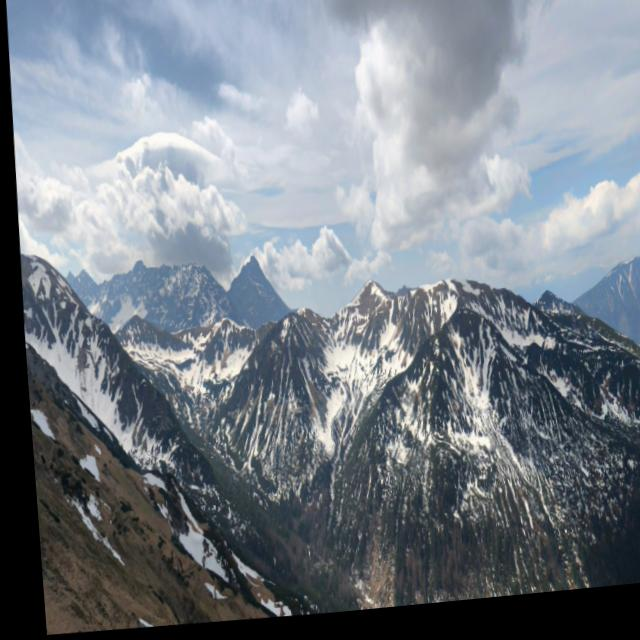Hruby vrch: (121, 229, 158, 297)
Krivan: (219, 201, 286, 312)
Satanovo sedlo: (46, 233, 91, 313)
